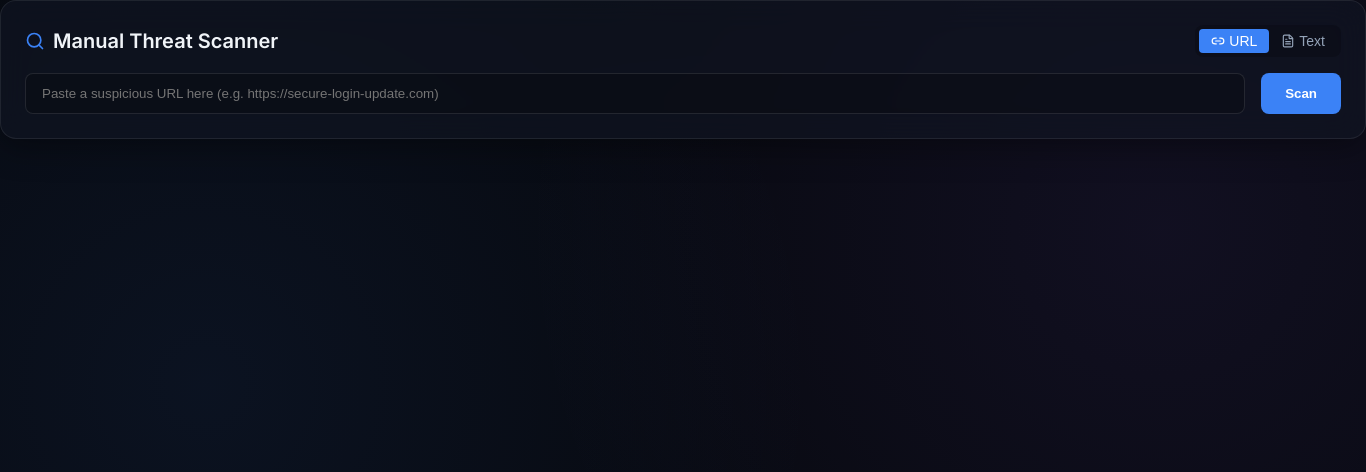
Test: ManualScanner Component › switches to text input when Text button is clicked
Click the button "Text" at (1303,41), box top-left (1269, 29), bottom-right (1337, 53)
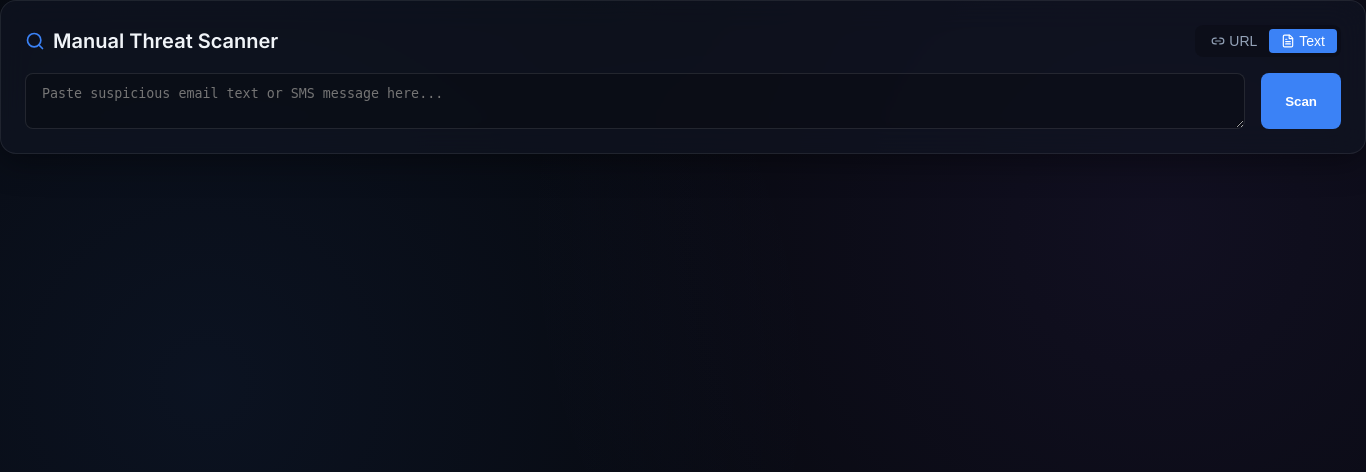
expect the text box with placeholder "Paste suspicious email text or SMS message here..." is shown: met, box top-left (25, 73), bottom-right (1245, 129)
